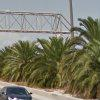Palm tree: (3, 36, 99, 92)
